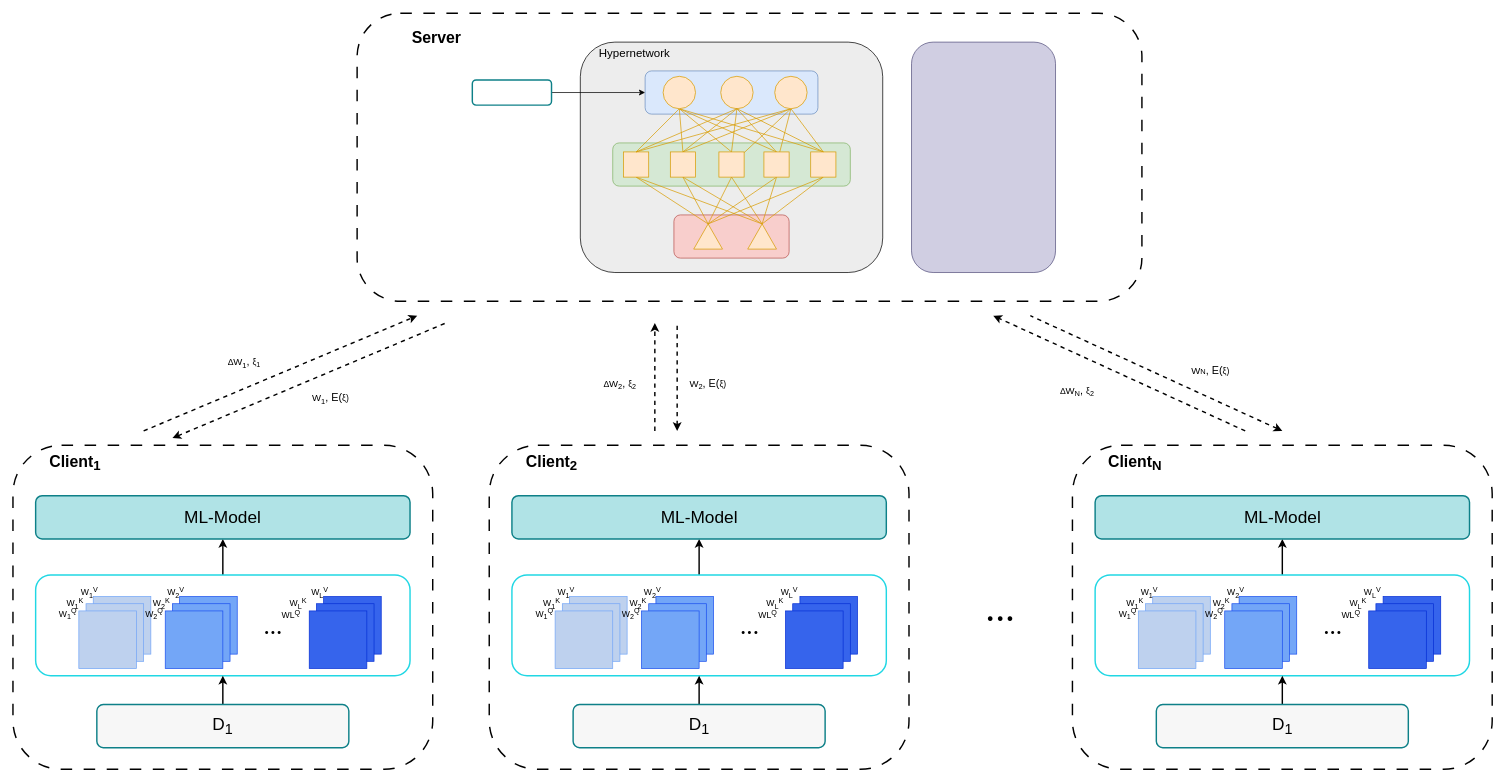
This 1506x782 diagram has some shape labels left out. The centre of each missing label's shape, as x and y in pixels:
"Aggergate functions" goes at pixel 983 157.
"z i" goes at pixel 511 92.
